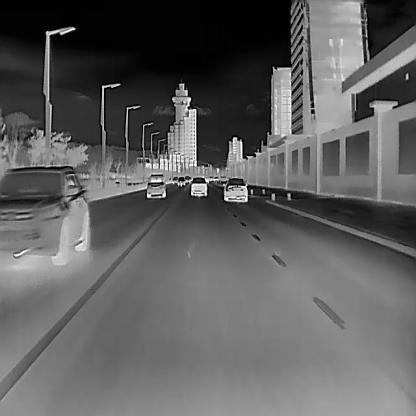car: (0, 165, 90, 266), (222, 176, 246, 201), (146, 173, 165, 197), (190, 175, 207, 196), (177, 176, 184, 186)
